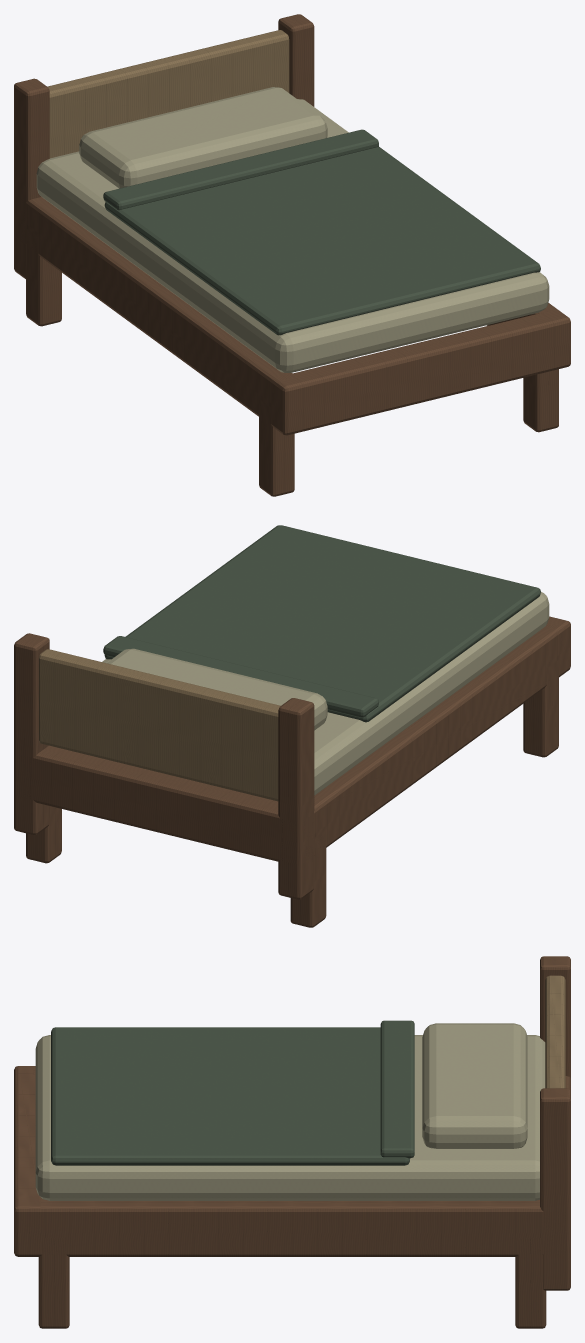
File: bed.glb
3 views of the same model, one above another, from view 1: azimuth 30°, elevation 25°; view 2: azimuth 150°, elevation 25°; view 3: azimuth 270°, elevation 25° (orthographic). The views are drawn at different scales.
Parts seen in each view (by area): view 1: DD_Bed_Blanket, DD_Bed_Mattress, DD_Bed_EndRail, DD_Bed_SideRail, DD_Bed_Pillow, DD_Bed_Headboard, DD_Bed_BlanketFold, DD_Bed_HeadPost, DD_Bed_Leg, DD_Bed_Leg.001, DD_Bed_HeadPost.001, DD_Bed_Leg.002; view 2: DD_Bed_Blanket, DD_Bed_Headboard, DD_Bed_EndRail.001, DD_Bed_SideRail, DD_Bed_Mattress, DD_Bed_HeadPost, DD_Bed_HeadPost.001, DD_Bed_Pillow, DD_Bed_BlanketFold, DD_Bed_Leg, DD_Bed_Leg.001, DD_Bed_Leg.003 (+1 smaller); view 3: DD_Bed_Blanket, DD_Bed_SideRail.001, DD_Bed_Mattress, DD_Bed_Pillow, DD_Bed_HeadPost.001, DD_Bed_BlanketFold, DD_Bed_EndRail, DD_Bed_Leg.002, DD_Bed_Leg.003, DD_Bed_Headboard, DD_Bed_HeadPost, DD_Bed_EndRail.001.
Boxes of the visible parts, box(x1,y1,x2,y2) form: DD_Bed_Blanket: box(104, 146, 540, 335); DD_Bed_Mattress: box(36, 99, 549, 372); DD_Bed_EndRail: box(271, 309, 570, 435); DD_Bed_SideRail: box(26, 197, 292, 428); DD_Bed_Pillow: box(79, 87, 327, 188); DD_Bed_Headboard: box(47, 30, 289, 158); DD_Bed_BlanketFold: box(103, 129, 378, 210); DD_Bed_HeadPost: box(14, 78, 49, 278); DD_Bed_Leg: box(259, 399, 294, 496); DD_Bed_Leg.001: box(26, 229, 61, 326); DD_Bed_HeadPost.001: box(278, 14, 314, 106); DD_Bed_Leg.002: box(523, 369, 558, 432); DD_Bed_Blanket: box(104, 525, 540, 722); DD_Bed_Headboard: box(39, 649, 280, 801); DD_Bed_EndRail.001: box(16, 745, 313, 863); DD_Bed_SideRail: box(314, 624, 562, 854); DD_Bed_Mattress: box(102, 592, 549, 795); DD_Bed_HeadPost: box(278, 698, 314, 899); DD_Bed_HeadPost.001: box(14, 633, 49, 834); DD_Bed_Pillow: box(106, 648, 327, 730); DD_Bed_BlanketFold: box(103, 636, 378, 717); DD_Bed_Leg: box(523, 660, 558, 757); DD_Bed_Leg.001: box(290, 830, 326, 927); DD_Bed_Leg.003: box(26, 806, 61, 863); DD_Bed_Blanket: box(51, 1027, 409, 1165); DD_Bed_SideRail.001: box(33, 1198, 551, 1256); DD_Bed_Mattress: box(35, 1035, 545, 1200); DD_Bed_Pillow: box(422, 1023, 527, 1148); DD_Bed_HeadPost.001: box(540, 1088, 570, 1290); DD_Bed_BlanketFold: box(380, 1020, 414, 1158); DD_Bed_EndRail: box(14, 1066, 40, 1256); DD_Bed_Leg.002: box(38, 1238, 69, 1328); DD_Bed_Leg.003: box(515, 1238, 546, 1328); DD_Bed_Headboard: box(545, 975, 565, 1088); DD_Bed_HeadPost: box(540, 956, 570, 1077); DD_Bed_EndRail.001: box(544, 1076, 570, 1254).
Bounding box in the file's own units: 1.1 × 0.825 × 1.8.
Materials: 4 (4 with a texture image).
